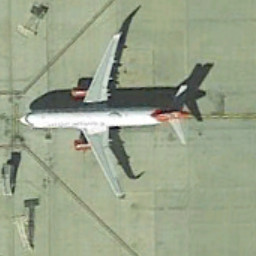Airplane: (15, 22, 207, 214)
